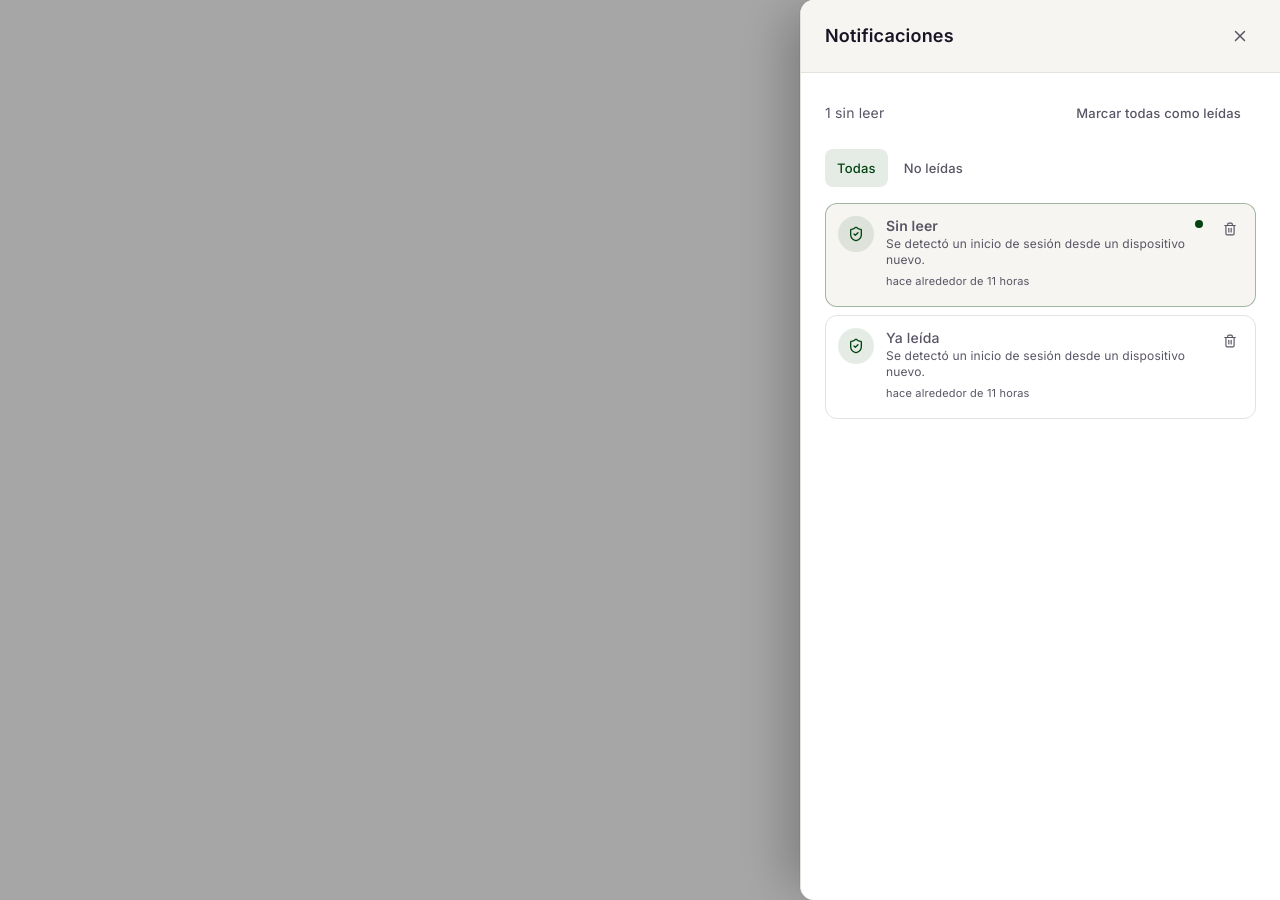
Test: NotificationPanel — listado y estados › filtra las notificaciones sin leer con el filtro "No leídas"
Expected: the text "Sin leer" is shown, [886,217,938,234]
Expected: the text "Ya leída" is shown, [886,329,940,346]
Click the button "No leídas". click: click(933, 168)
box: [892,149,975,187]
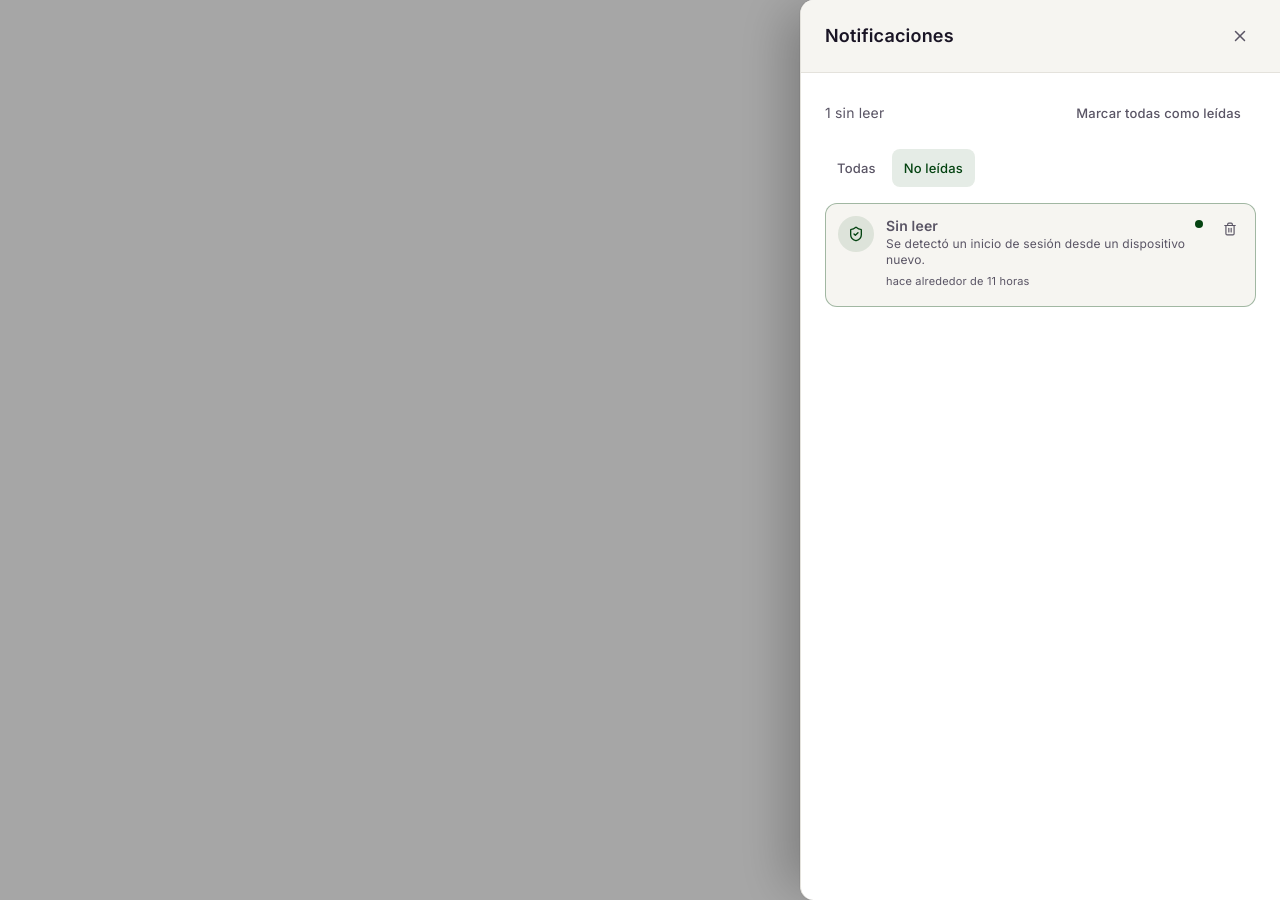
Expected: the text "Sin leer" is shown, [886,217,938,234]
Now the button "Ya leída" is gone
